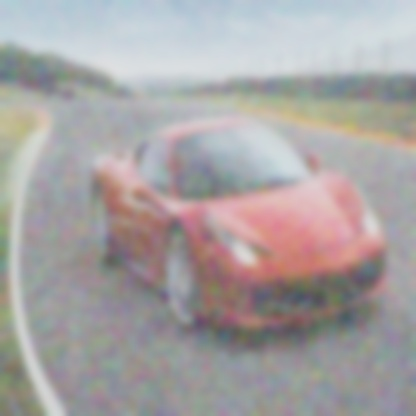Vehicle: (90, 111, 388, 350)
